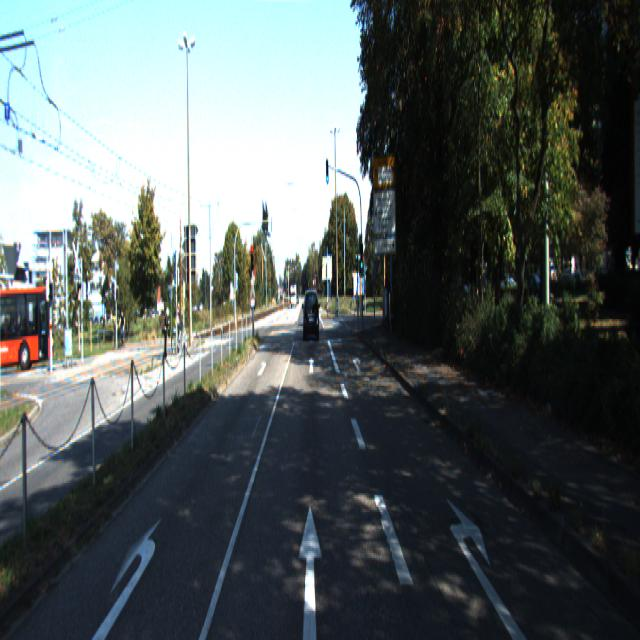Car: (0, 284, 56, 371), (304, 288, 320, 342)
